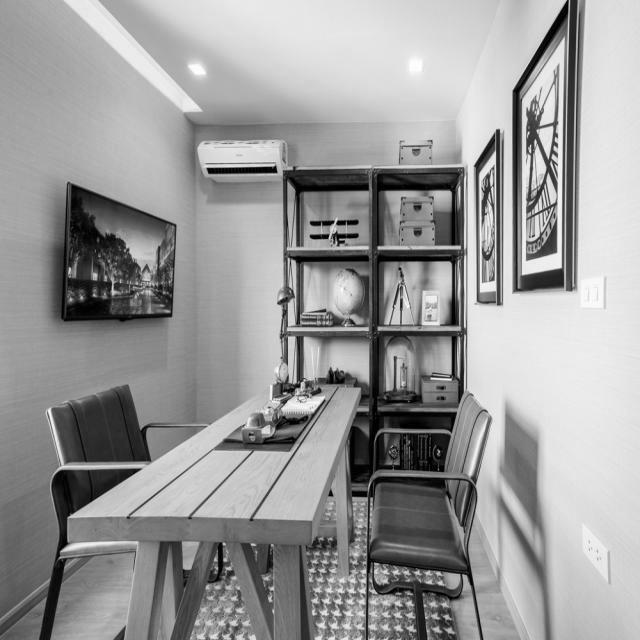table: (60, 353, 372, 561)
